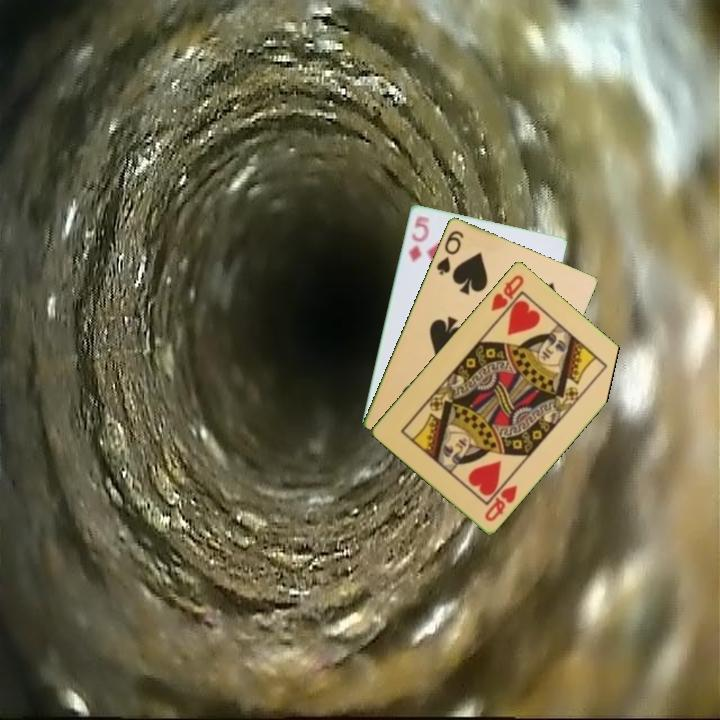5d: (405, 212, 432, 265)
6s: (433, 226, 467, 278)
Qh: (487, 271, 527, 314), (481, 481, 520, 524)
